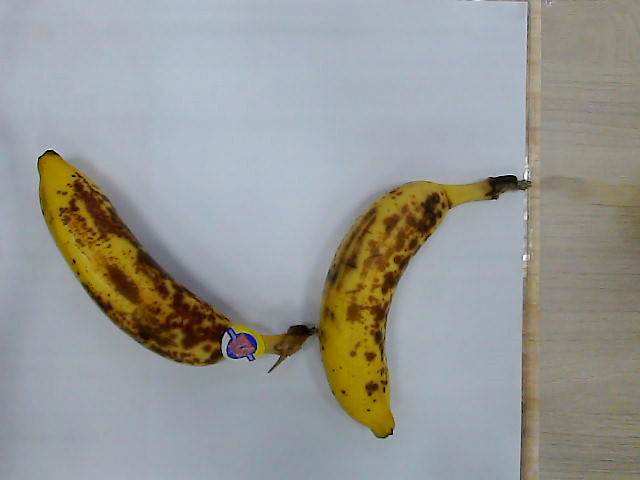rotten_banana: (36, 149, 314, 368), (319, 176, 536, 441)
